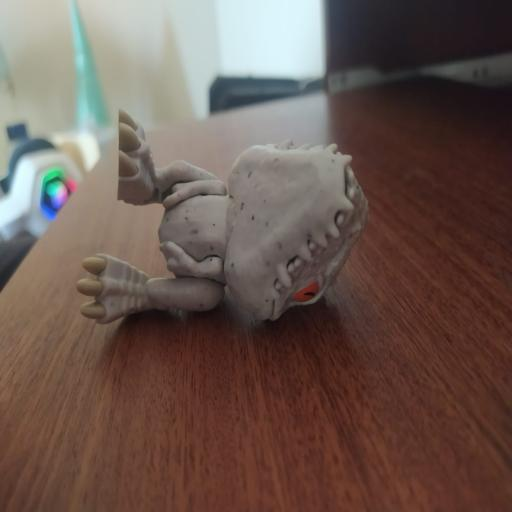Dinosaurio: (75, 100, 376, 358)
